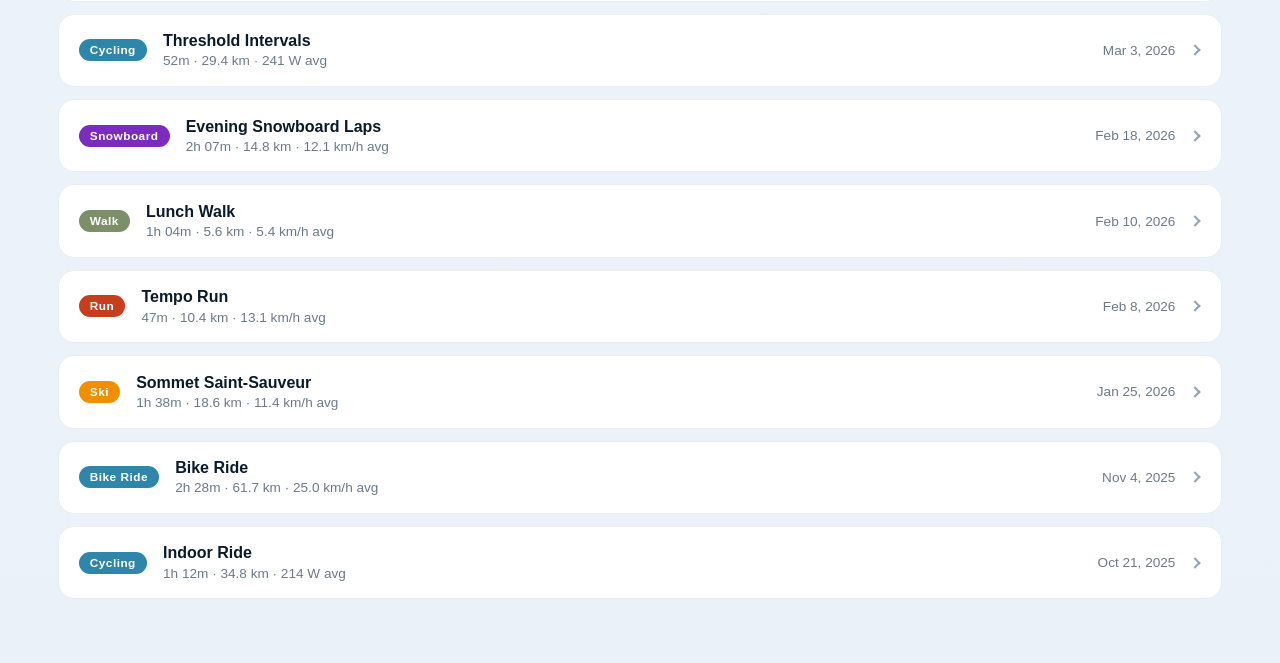
it: Activities page › shows the embedded MyWhoosh dashboard when the indoor ride is expanded
The image size is (1280, 663).
(page scrolled)
Click the button "Indoor Ride" at (113, 563), box 59,527 -> 1222,598
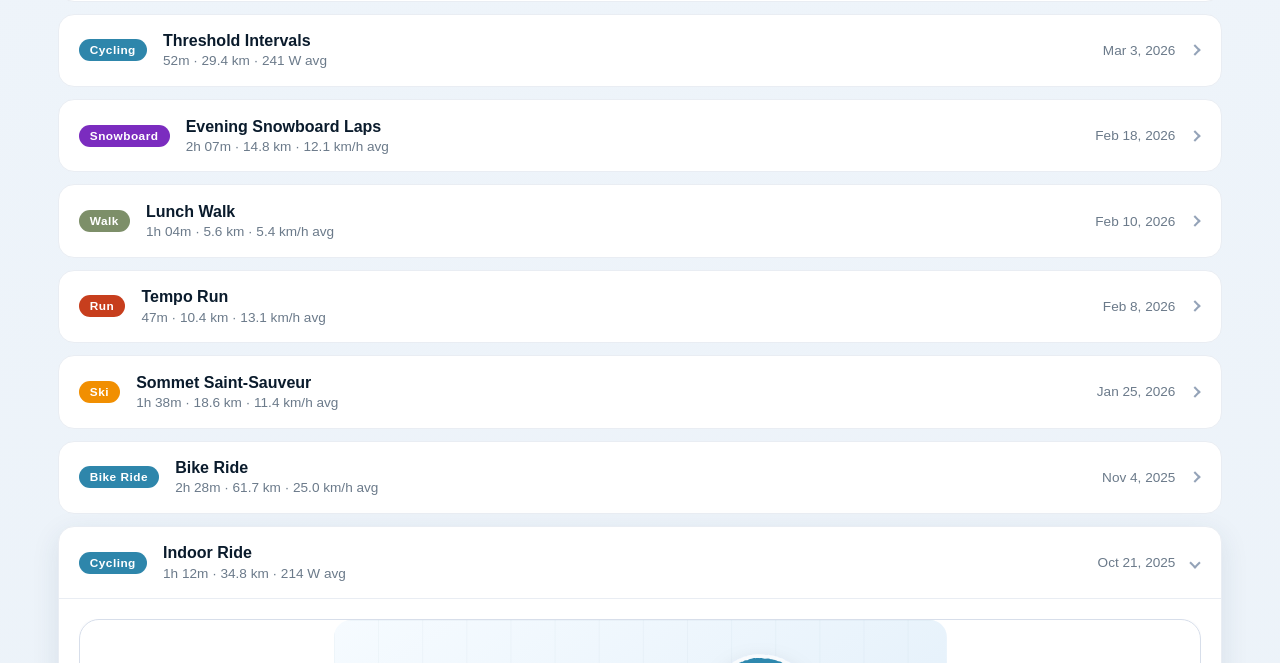
Expected: the button "Indoor Ride" is expanded, 59,527 -> 1222,598
